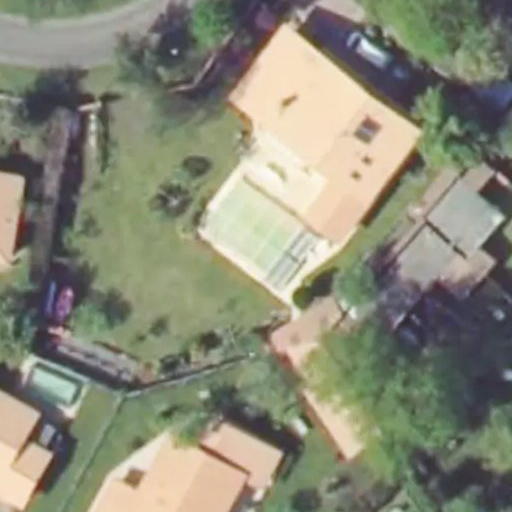pool: (206, 235, 305, 249)
